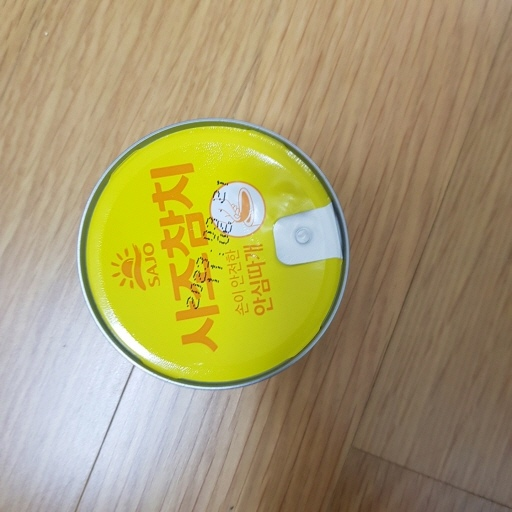Metal_1: (73, 117, 351, 392)
